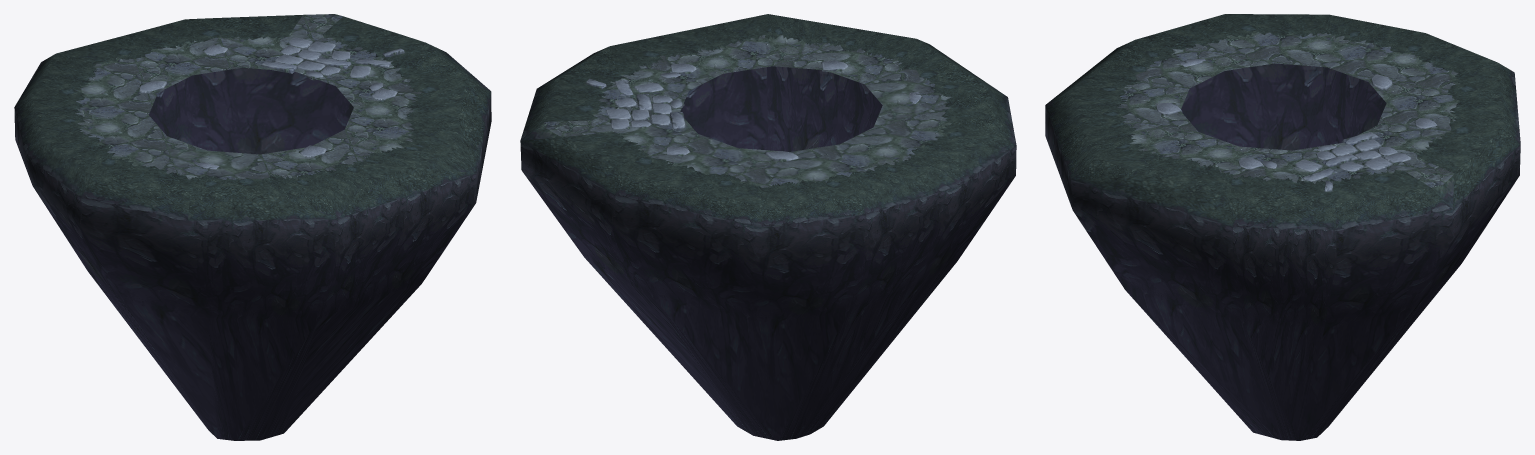
File: cs_lobbynew02_wujian_zhiji_shitai.FBX
The picture shows the model from 3 angles, left to right: view 1: azimuth 30°, elevation 25°; view 2: azimuth 150°, elevation 25°; view 3: azimuth 270°, elevation 25°; orthographic projection.
Visible parts, largest first — view 1: cs_lobbynew02_wujian_zhiji_shitai; view 2: cs_lobbynew02_wujian_zhiji_shitai; view 3: cs_lobbynew02_wujian_zhiji_shitai.
Part boxes in pixels (bbox=[...]): cs_lobbynew02_wujian_zhiji_shitai: bbox=[14, 14, 491, 440]; cs_lobbynew02_wujian_zhiji_shitai: bbox=[520, 14, 1016, 440]; cs_lobbynew02_wujian_zhiji_shitai: bbox=[1045, 14, 1520, 440].
Size of the model in its own units: 1727 by 1238 by 1663.
